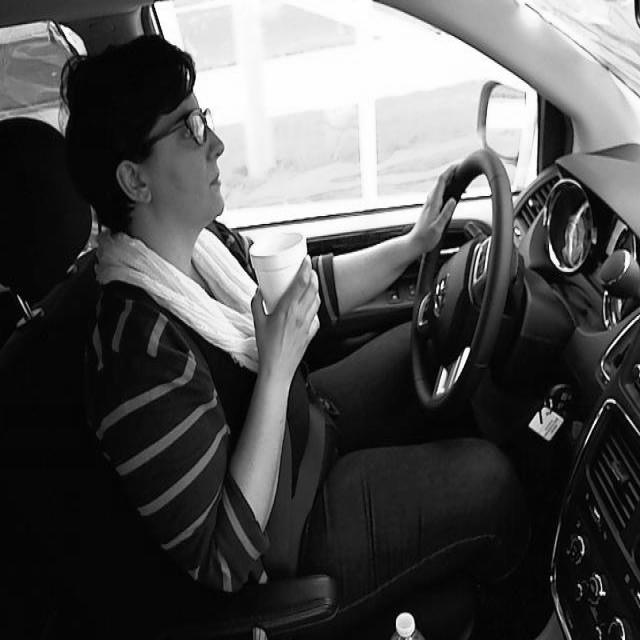Drinking: (247, 231, 311, 325)
